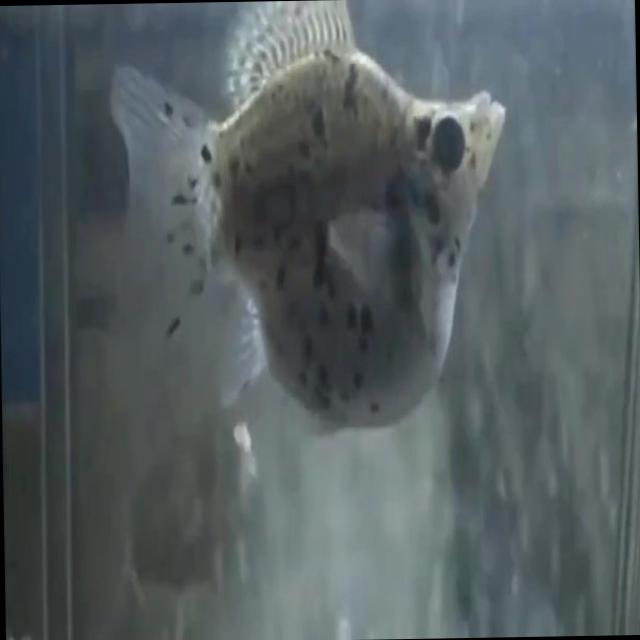PlatyFish: (93, 0, 525, 452)
